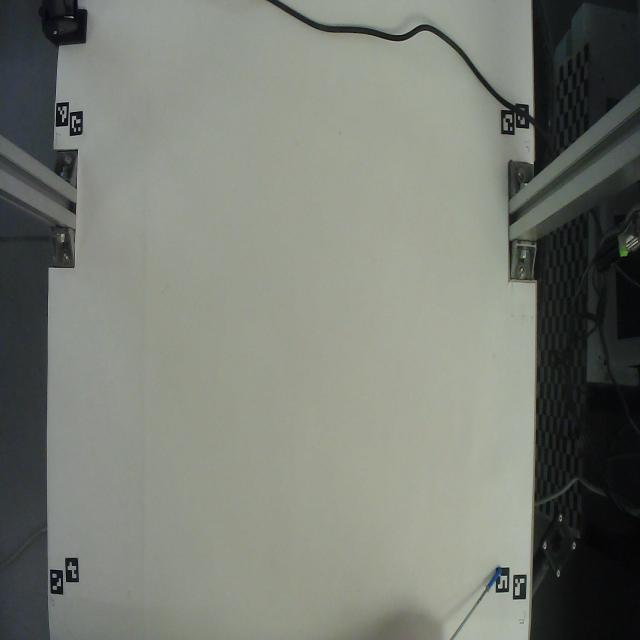Pres: (436, 549, 511, 640)
